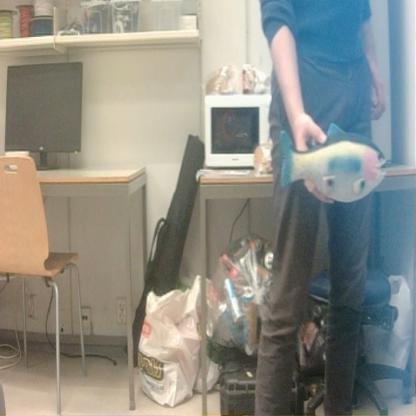rubberfish: (274, 112, 391, 214)
